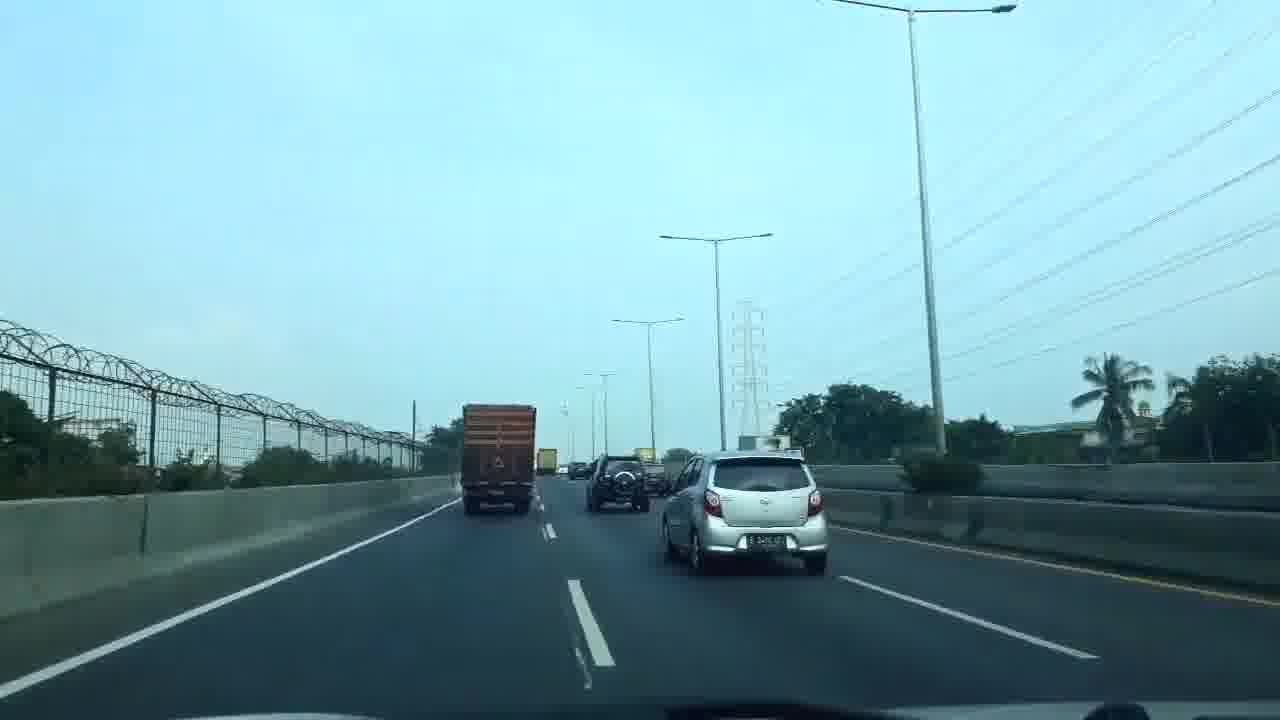plate_positive: (747, 534, 788, 549)
